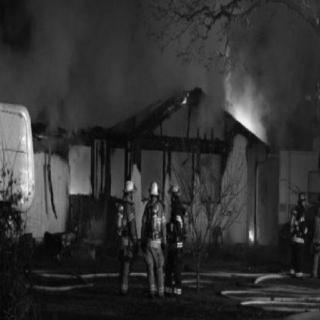Fire: (248, 222, 262, 244)
